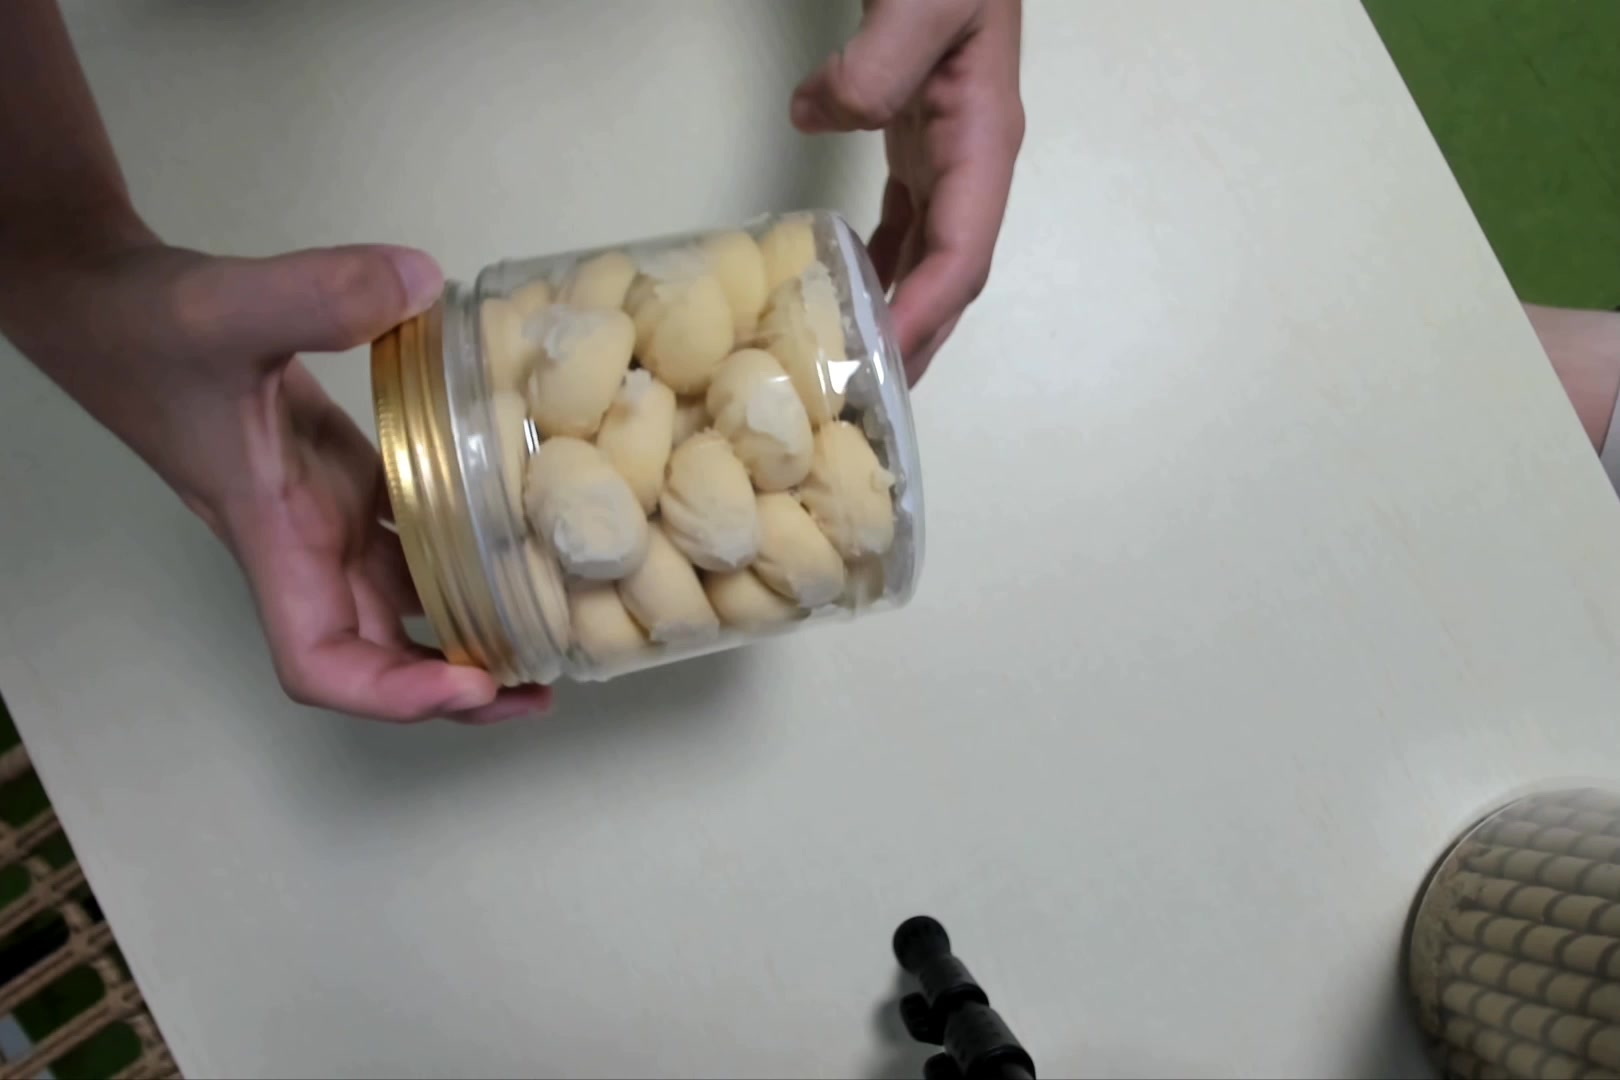BiscuitsCrackersCookies_200-299g_Halal_NonHealthy: (366, 212, 935, 683)
